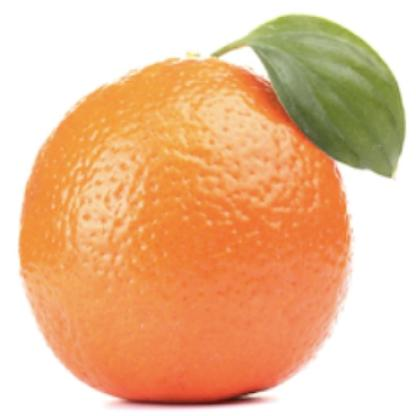fresh: (20, 56, 354, 407)
